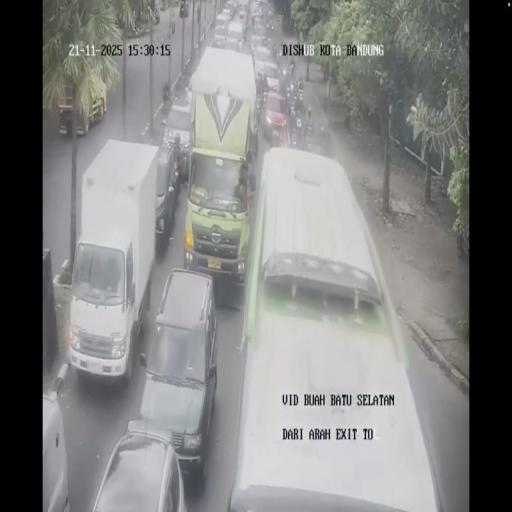car: (226, 20, 244, 50), (263, 60, 280, 89), (252, 20, 268, 44)
motorcycle: (303, 122, 317, 153), (254, 82, 266, 118), (292, 86, 306, 115), (267, 16, 274, 33)
truck: (68, 138, 164, 384), (183, 47, 259, 291), (56, 67, 106, 136)
